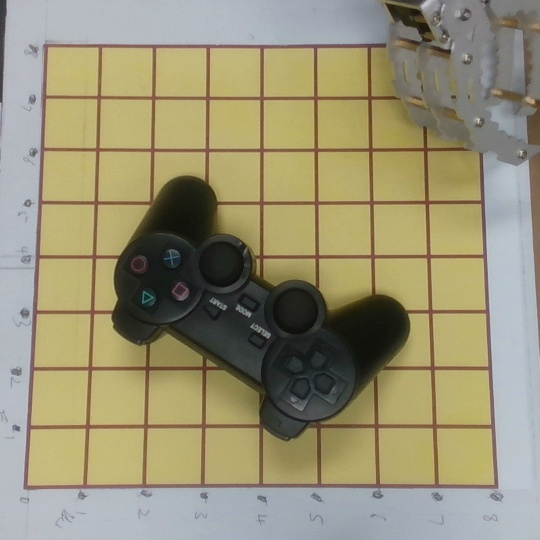remote: (111, 173, 411, 441)
